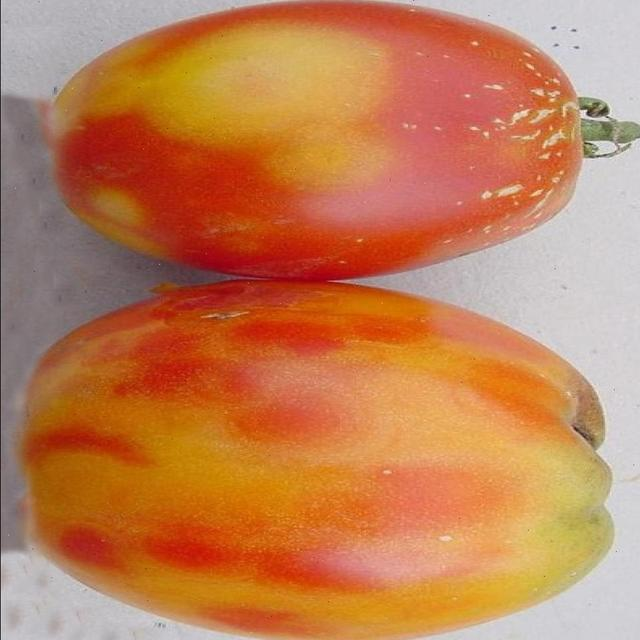Spotted wilt Virus Fruit: (179, 0, 309, 427)
